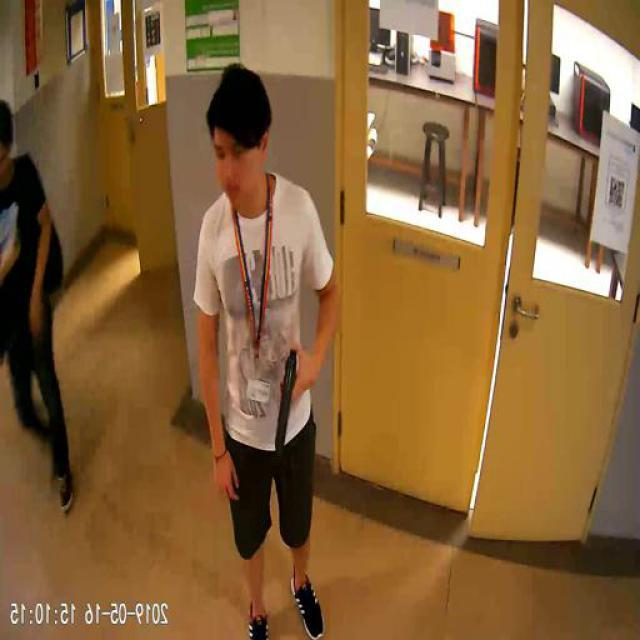Gun: (275, 341, 305, 454)
